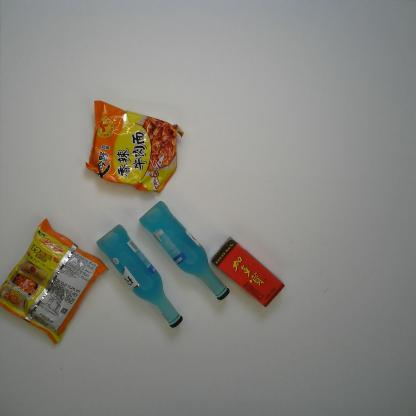Alcohol: (138, 199, 230, 300), (95, 224, 184, 328)
Drink: (210, 237, 286, 308)
Instant Noodles: (0, 218, 110, 344), (85, 99, 184, 195)
